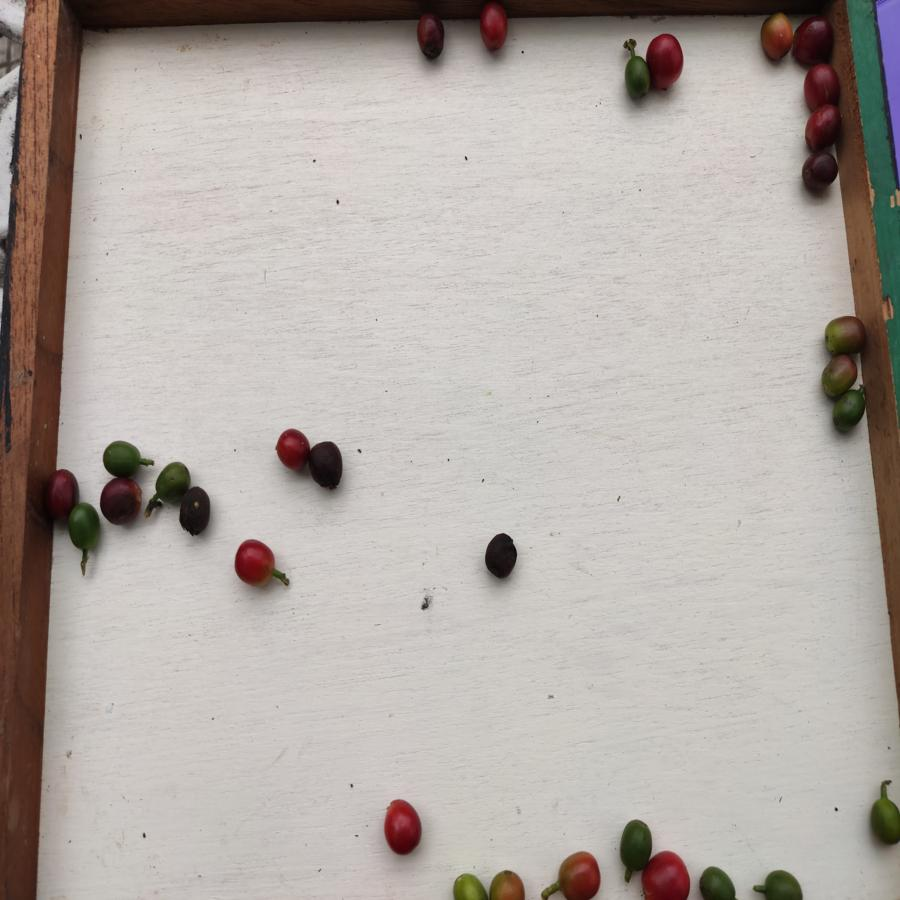Inmaduro: (617, 815, 652, 869), (867, 794, 900, 849), (694, 861, 740, 900), (834, 389, 868, 440), (101, 438, 144, 478), (756, 866, 806, 900), (621, 53, 649, 103), (155, 459, 188, 501), (71, 503, 99, 551)
Maduro: (233, 536, 279, 594), (644, 849, 695, 900), (383, 796, 423, 857), (558, 849, 604, 900), (646, 29, 684, 89), (274, 428, 310, 475), (479, 4, 508, 55)
Pinton: (759, 10, 795, 70), (821, 311, 866, 357), (818, 354, 856, 393), (489, 867, 528, 900), (453, 869, 491, 900)
Sobremaduro: (99, 479, 144, 529), (308, 441, 348, 494), (483, 531, 522, 579), (803, 148, 841, 196), (180, 486, 214, 538), (416, 14, 449, 64), (793, 16, 830, 59), (46, 469, 78, 518), (806, 105, 840, 148), (804, 64, 839, 105)
